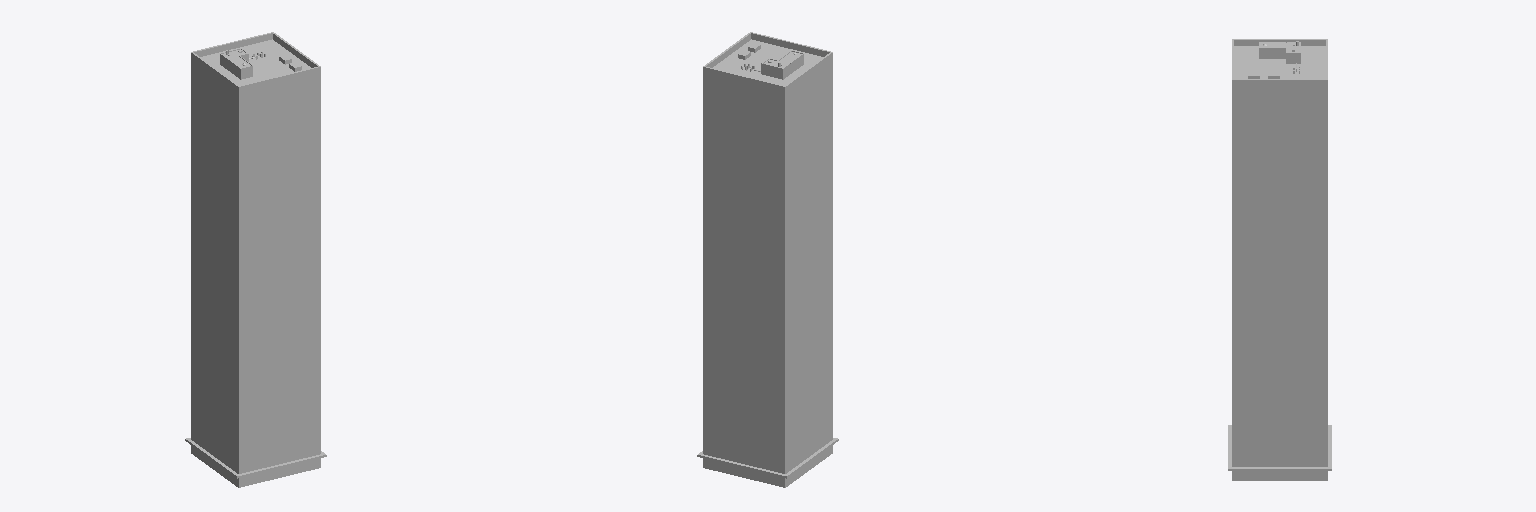
The model's file is budynek7.obj.
3 views of the same model, side by side, from view 1: azimuth 30°, elevation 25°; view 2: azimuth 150°, elevation 25°; view 3: azimuth 270°, elevation 25° (orthographic).
Visible parts, largest first — view 1: Blue_Cube.017; view 2: Blue_Cube.017; view 3: Blue_Cube.017.
Boxes of the visible parts, x1=… form: Blue_Cube.017: x1=185, y1=32, x2=326, y2=487; Blue_Cube.017: x1=697, y1=32, x2=838, y2=487; Blue_Cube.017: x1=1228, y1=39, x2=1331, y2=480.
Size of the model in its own units: 2.16 by 9.44 by 2.16.